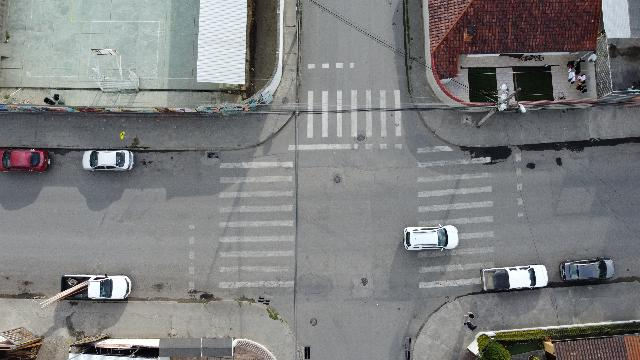Vehiculo: (480, 264, 548, 292), (60, 275, 131, 300), (403, 224, 459, 252), (560, 258, 614, 282), (0, 148, 50, 172), (82, 150, 134, 172)
